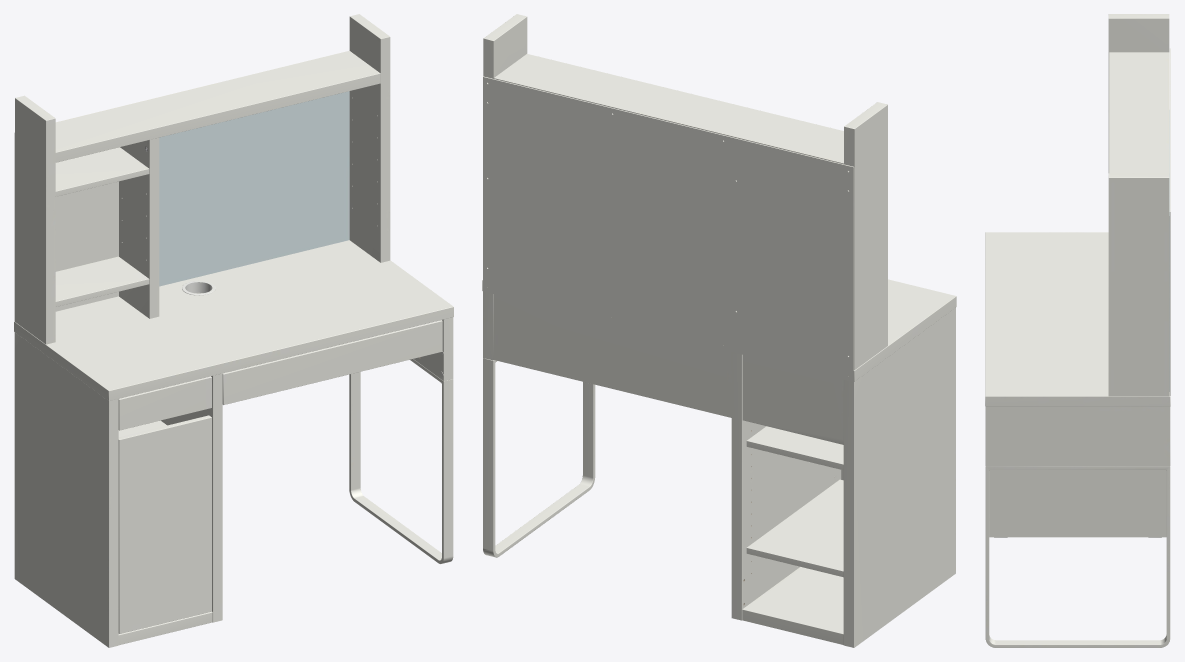
Rendered from micke_biurko_09903014.glb.
3 views of the same model, side by side, from view 1: azimuth 30°, elevation 25°; view 2: azimuth 150°, elevation 25°; view 3: azimuth 270°, elevation 25° (orthographic). The views are drawn at different scales.
Visible parts, largest first — view 1: micke_biurko_09903014; view 2: micke_biurko_09903014; view 3: micke_biurko_09903014.
Boxes of the visible parts, x1,y1,x2,y2 form: micke_biurko_09903014: [14, 14, 453, 647]; micke_biurko_09903014: [482, 14, 956, 647]; micke_biurko_09903014: [985, 14, 1170, 647].
Bounding box in the file's own units: 1.05 × 1.4 × 0.5002.
1 material, 1 textured.
